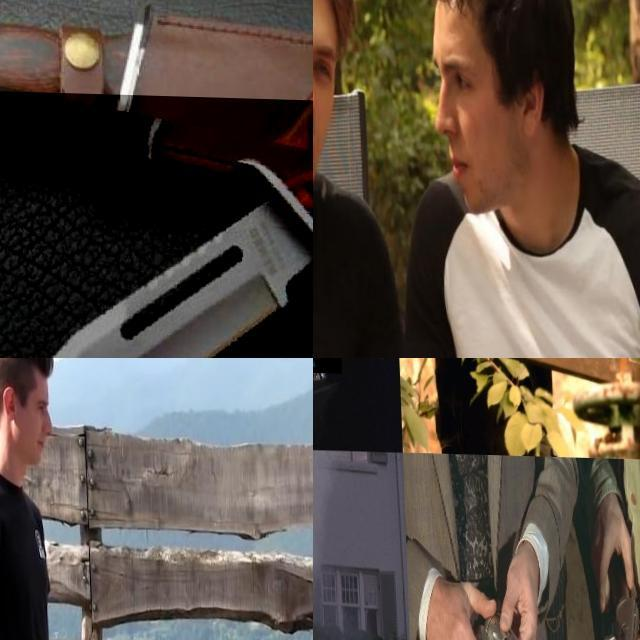-: (0, 87, 313, 358), (313, 249, 353, 358)
gun-knife-thesis - v11 Yolov5 augmented: (453, 358, 630, 404), (420, 575, 545, 640), (313, 358, 343, 406)
